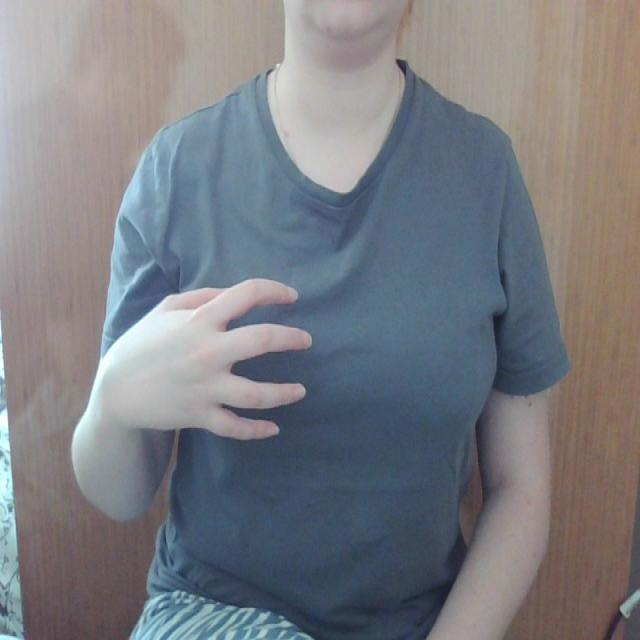Anne: (113, 231, 494, 475)
